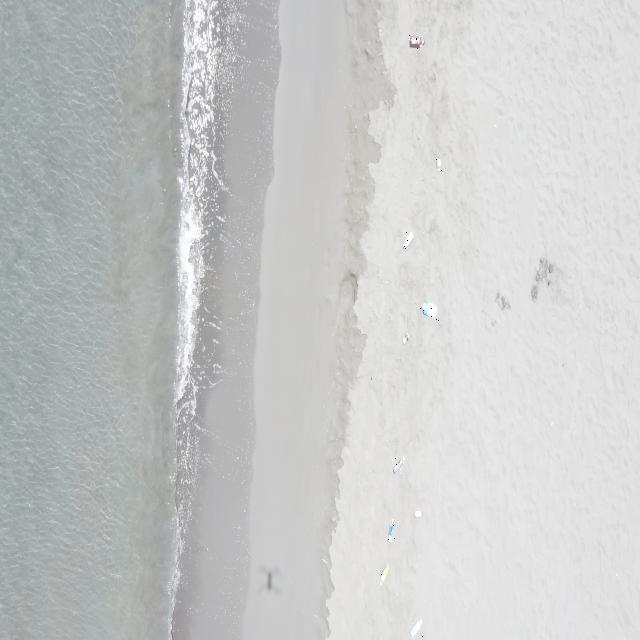Garbage: (420, 300, 437, 320), (409, 33, 424, 48), (409, 619, 422, 636), (392, 456, 404, 472), (380, 566, 388, 584), (403, 232, 412, 248), (387, 519, 393, 540), (435, 156, 440, 171), (402, 332, 408, 343), (413, 510, 420, 516)
